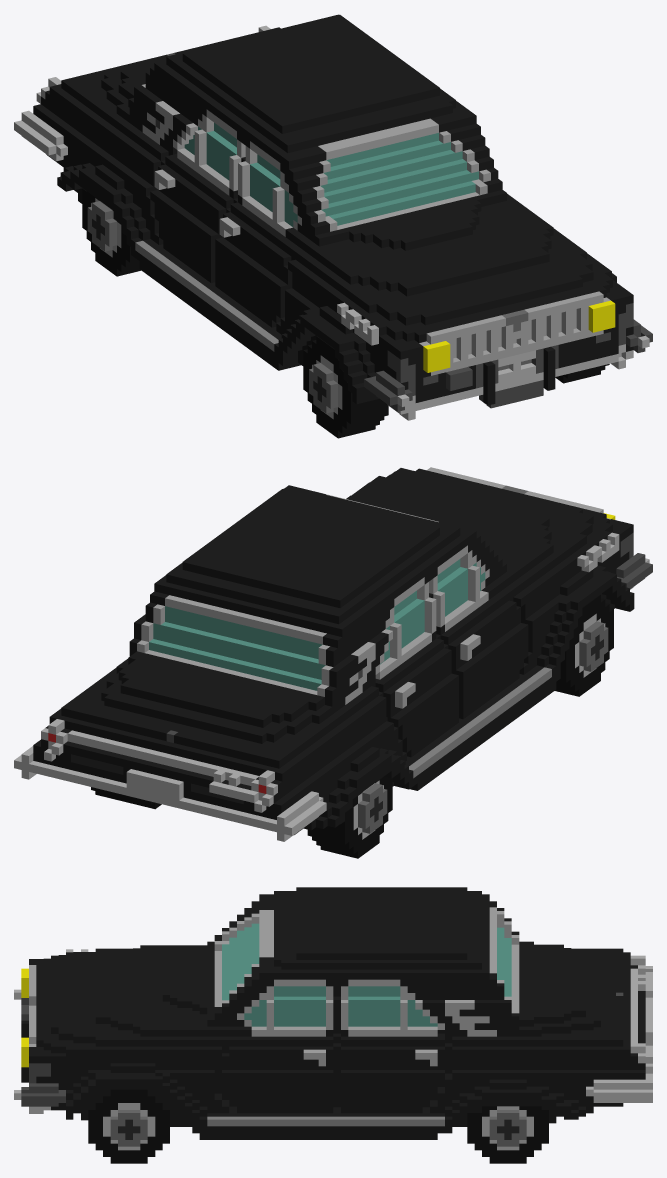
File: volga.obj
3 renders of one model, top to bottom at view 1: azimuth 30°, elevation 25°; view 2: azimuth 150°, elevation 25°; view 3: azimuth 270°, elevation 25°, orthographic. The views are drawn at different scales.
Size of the model in its own units: 3.7 by 2.8 by 8.6.
1 material, 1 textured.
